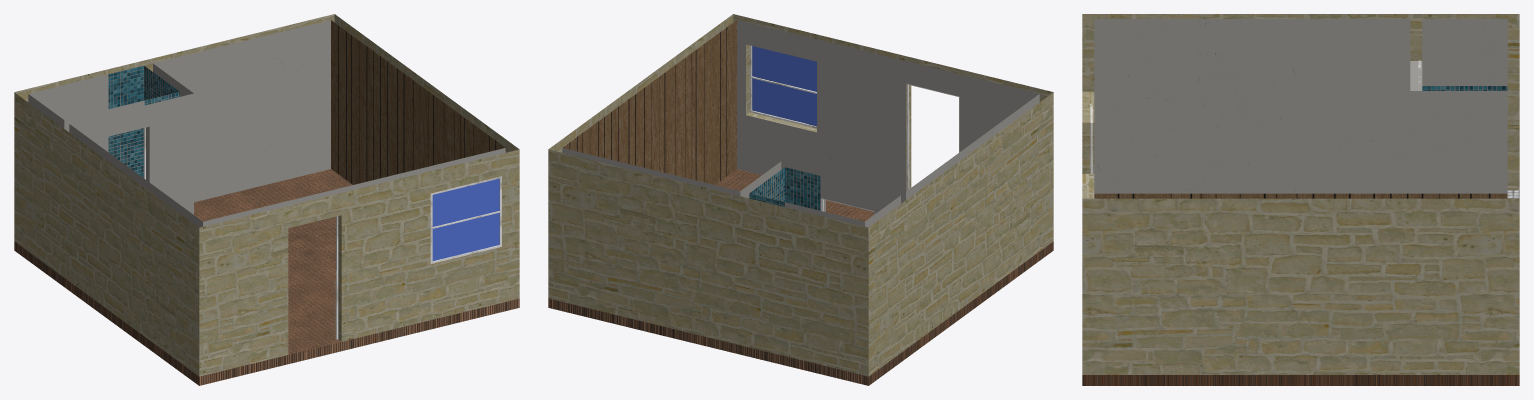
Rendered from MotelRoomFlipped.glb.
The picture shows the model from 3 angles, left to right: view 1: azimuth 30°, elevation 25°; view 2: azimuth 150°, elevation 25°; view 3: azimuth 270°, elevation 25°; orthographic projection. The views are drawn at different scales.
Parts seen in each view (by area): view 1: LowResRoomLowTexture, Floor.001LT, Glass.002LT, Window.001LT, Door Frame.002LT; view 2: LowResRoomLowTexture, Floor.001LT, Glass.002LT, Window.001LT, Door Frame.002LT; view 3: LowResRoomLowTexture, Floor.001LT.
Part boxes in pixels (<box>): LowResRoomLowTexture: <box>14,14,519,376</box>; Floor.001LT: <box>14,169,519,385</box>; Glass.002LT: <box>432,178,499,260</box>; Window.001LT: <box>430,176,501,263</box>; Door Frame.002LT: <box>335,216,338,339</box>; LowResRoomLowTexture: <box>548,14,1053,376</box>; Floor.001LT: <box>548,169,1053,385</box>; Glass.002LT: <box>752,46,816,125</box>; Window.001LT: <box>749,45,816,128</box>; Door Frame.002LT: <box>906,84,959,190</box>; LowResRoomLowTexture: <box>1082,14,1519,374</box>; Floor.001LT: <box>1082,190,1519,385</box>.
Size of the model in its own units: 5.49 by 2.59 by 5.49.
9 materials, 8 textured.
